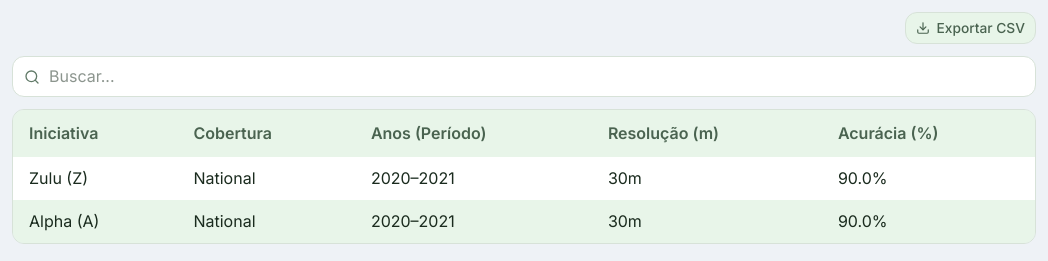
Test: InitiativesTable (Fase 2: iniciativa/área/ano) › sorts by iniciativa when the header is activated
What coordinates should you click on to do the following:
click the column heading "Iniciativa"
I would click on:
 (95, 134)
Its box is [13, 110, 178, 157].
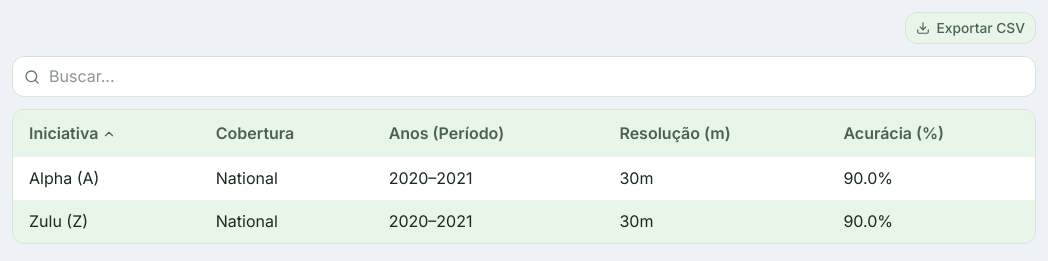
Check: the cell "Alpha (A)" is shown, box [13, 157, 200, 200]
